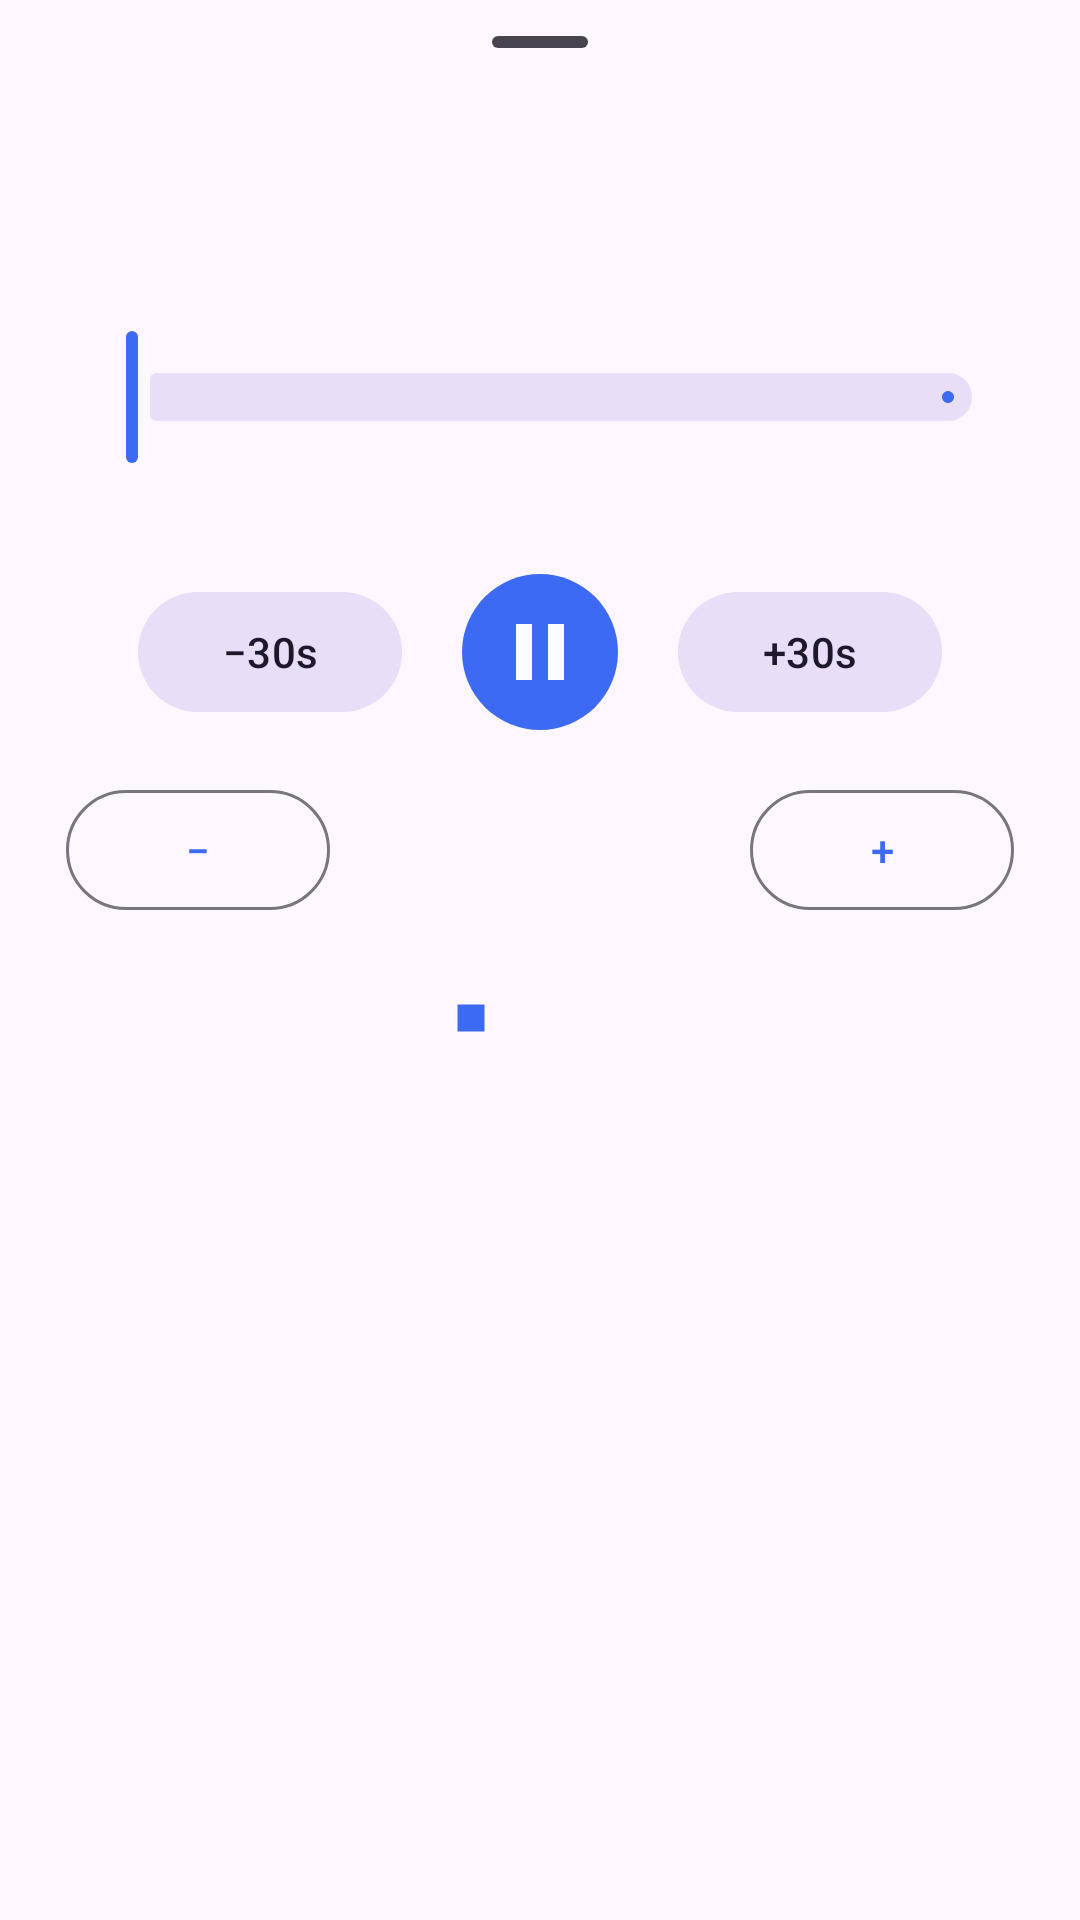

Locate icon controls on the screen. Image size 1080 × 1920, boxes as bbox(x1, y1, x2, y2).
pause: bbox(462, 574, 618, 730)
stop: bbox(457, 1004, 485, 1032)
